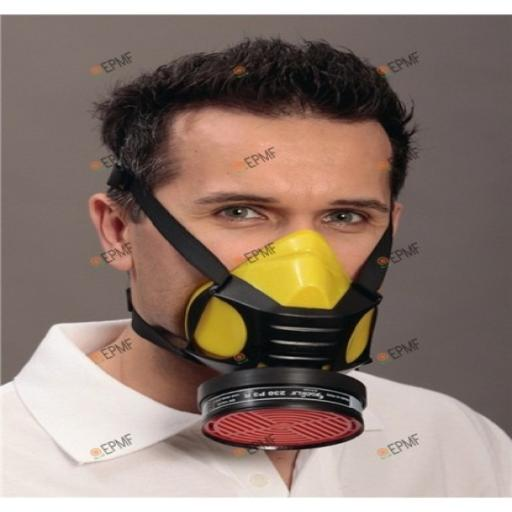mask: (172, 226, 396, 473)
